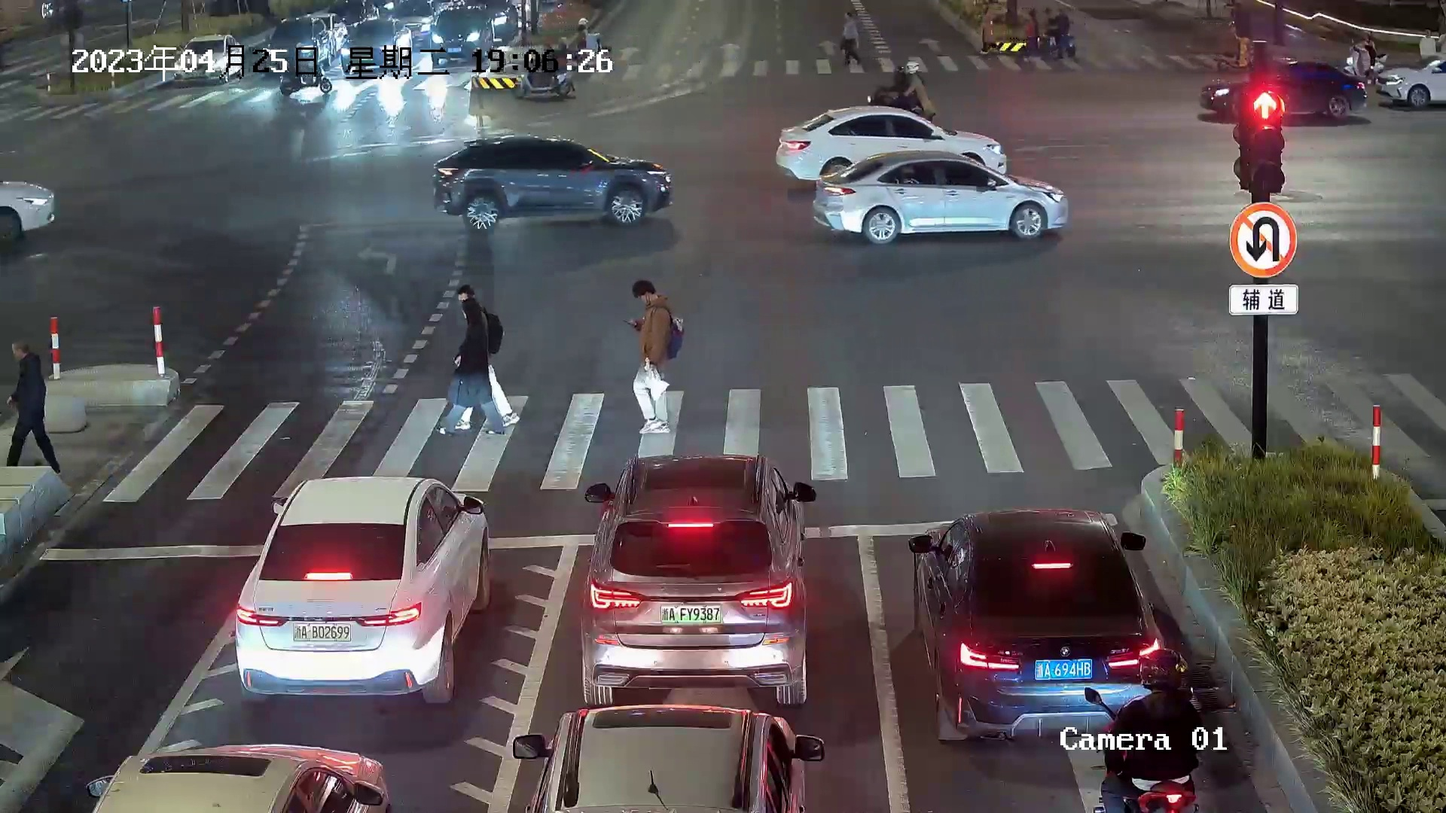person: (1109, 645, 1200, 793), (618, 276, 681, 439), (457, 279, 519, 428), (438, 299, 504, 435), (4, 335, 63, 473)
vehicle: (230, 469, 492, 714), (573, 448, 816, 707), (903, 502, 1163, 744), (502, 700, 825, 813), (425, 133, 679, 236), (810, 146, 1072, 245), (78, 738, 397, 811), (772, 102, 1014, 184), (1196, 56, 1372, 123), (428, 5, 501, 64)
